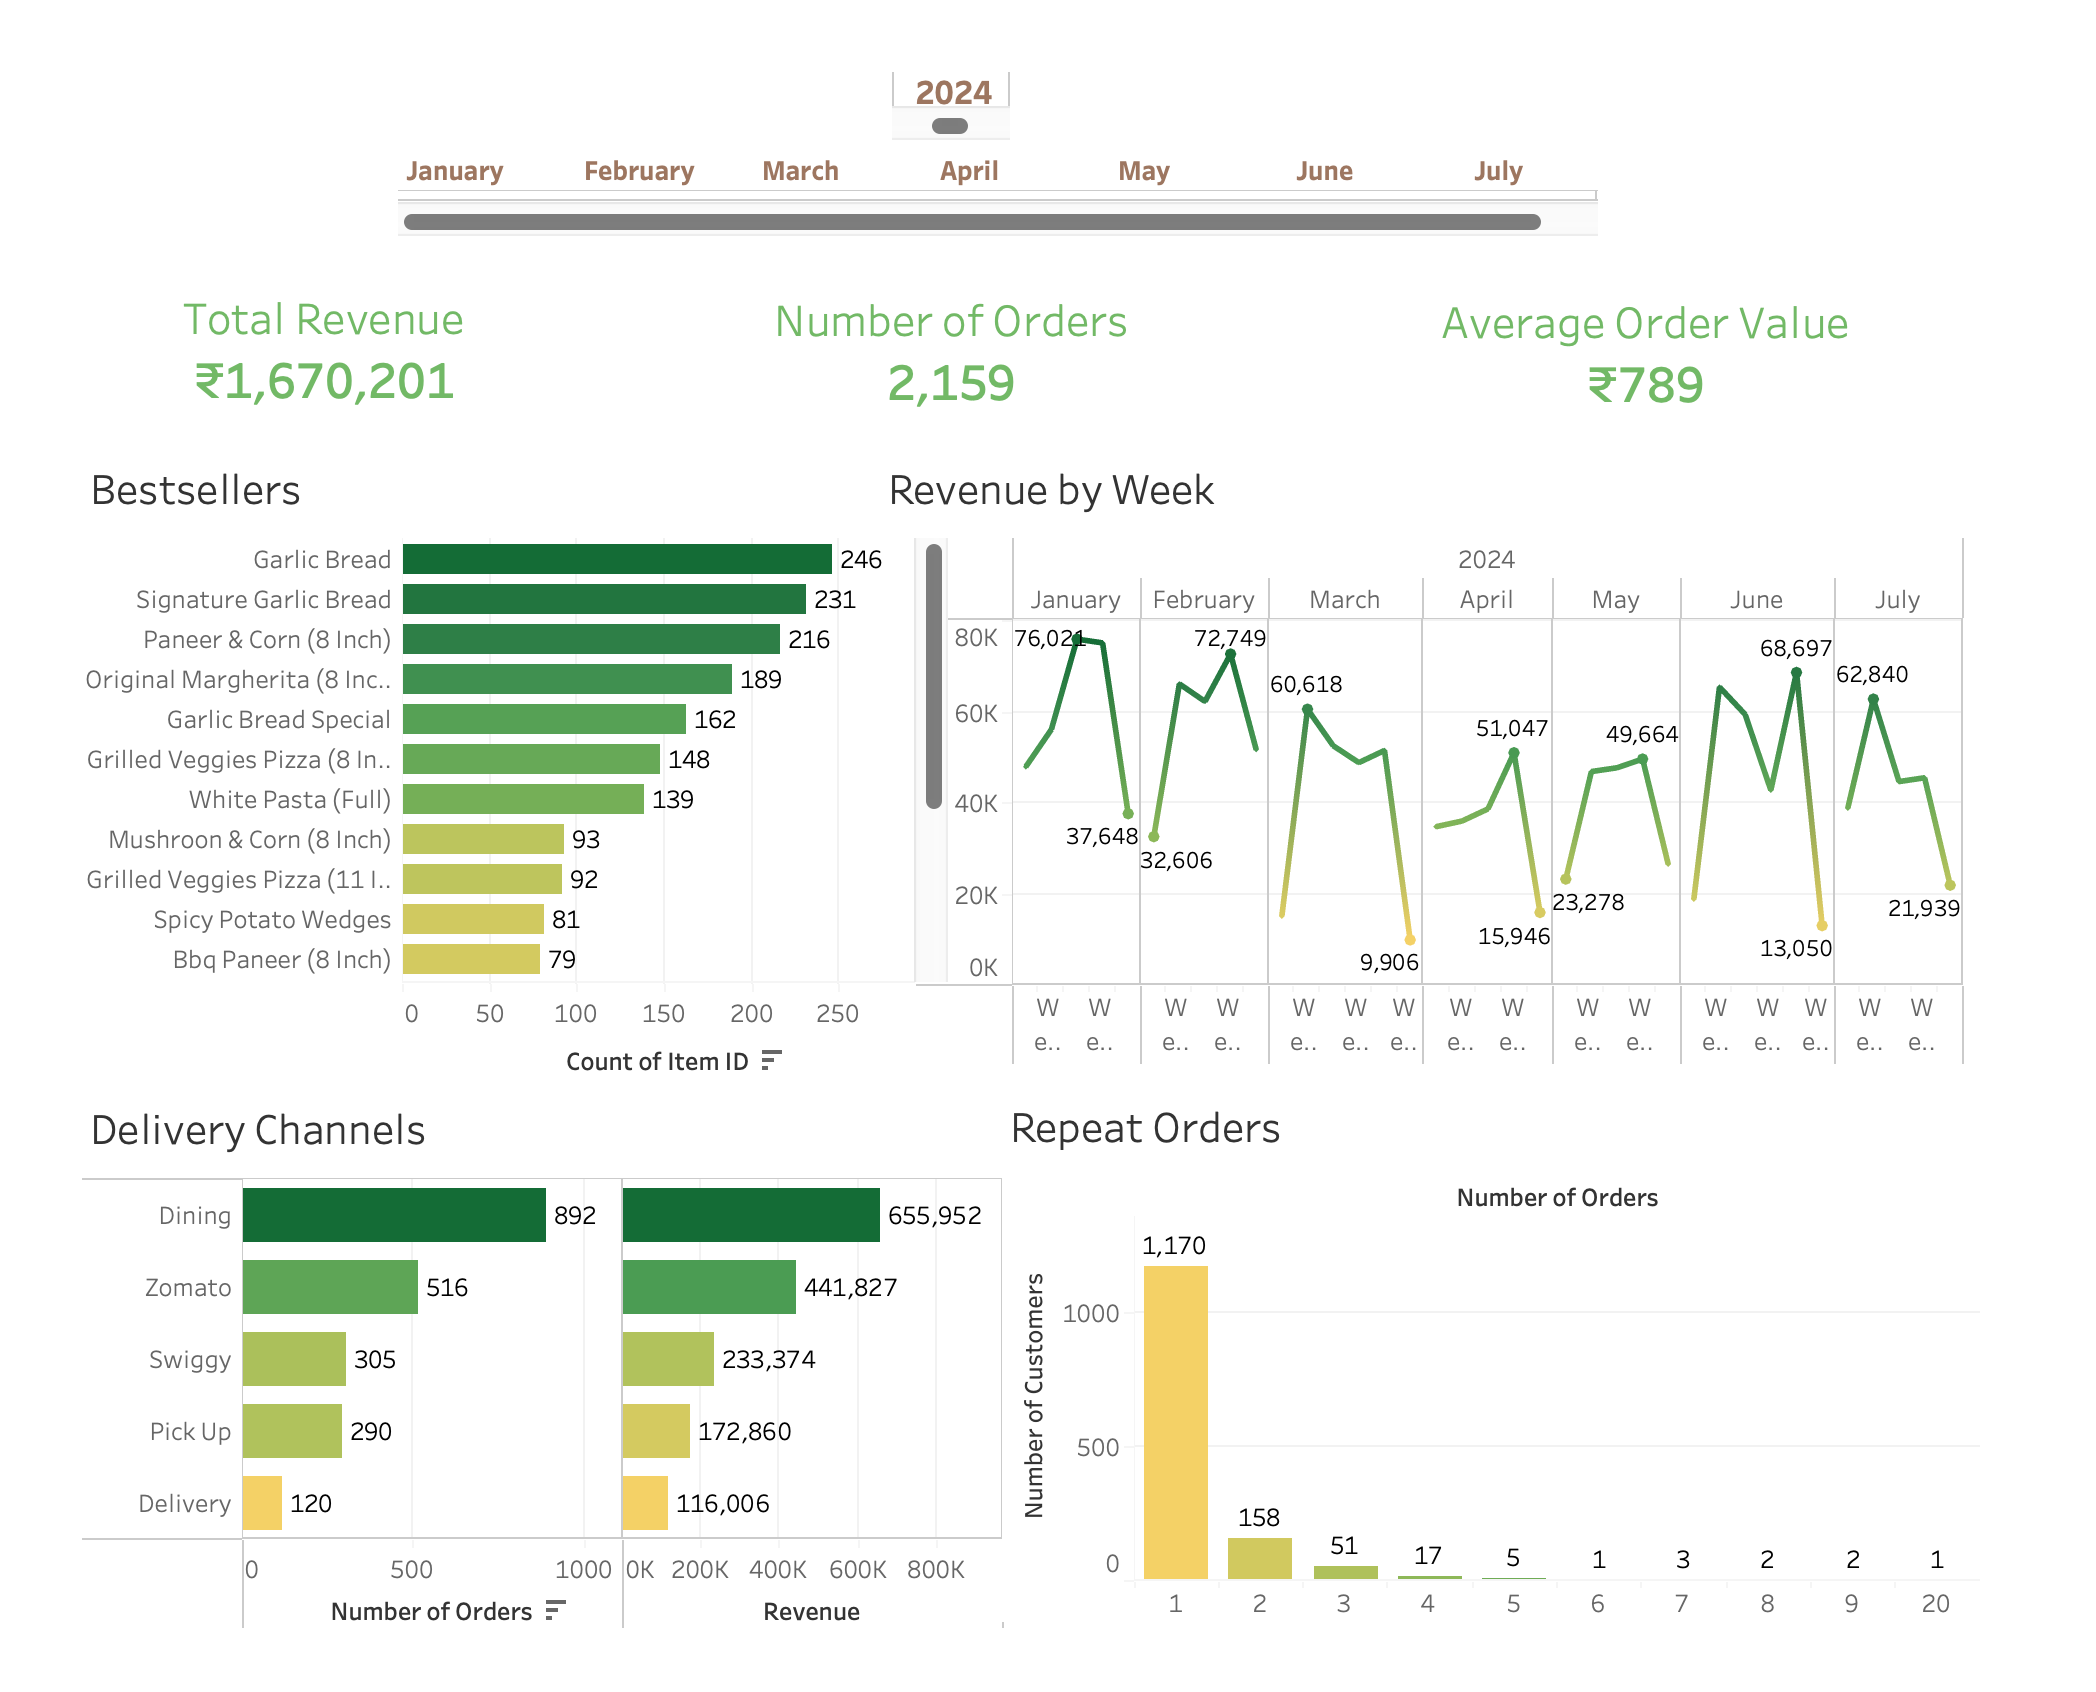

The dashboard page shown, as its layout file describes it:
{"tool":"tableau","page":{"name":"Dashboard 1","canvas":[1000,800],"ordinal":0},"visuals":[{"type":"worksheet","title":"Year","mark":"Automatic","cols":["Date","Date"],"box":[446,11,76,34]},{"type":"worksheet","title":"Month","mark":"Automatic","cols":["Date"],"box":[199,50,600,44]},{"type":"worksheet","title":"Revenue","mark":"Automatic","box":[82,119,168,65]},{"type":"worksheet","title":"Quantity","mark":"Automatic","box":[376,120,210,62]},{"type":"worksheet","title":"Average Order Value","mark":"Automatic","box":[713,121,221,63]},{"type":"worksheet","title":"Bestsellers overall","mark":"Automatic","rows":["ItemName"],"cols":["ItemID"],"box":[41,201,433,286]},{"type":"worksheet","title":"Revenue by Week","mark":"Automatic","rows":["ItemTotal"],"cols":["Date","Date","Date"],"box":[440,201,542,307]},{"type":"worksheet","title":"Repeat Orders","mark":"Automatic","rows":["CustomerID (Sales)"],"cols":["No.Orders (bin)"],"box":[501,520,489,266]},{"type":"worksheet","title":"Delivery Channels","mark":"Automatic","rows":["SubOrderType"],"cols":["InvoiceNo","ItemTotal"],"box":[41,521,482,276]}]}

Visuals, with their boxes in screenshot pixels (x1, y1, x2, y2), scaled from the page's 1000x800 canvas onto the 2096x1692 screenshot:
"Year" worksheet: bbox=(935, 23, 1094, 95)
"Month" worksheet: bbox=(417, 106, 1675, 199)
"Revenue" worksheet: bbox=(172, 252, 524, 389)
"Quantity" worksheet: bbox=(788, 254, 1228, 385)
"Average Order Value" worksheet: bbox=(1494, 256, 1958, 389)
"Bestsellers overall" worksheet: bbox=(86, 425, 994, 1030)
"Revenue by Week" worksheet: bbox=(922, 425, 2058, 1074)
"Repeat Orders" worksheet: bbox=(1050, 1100, 2075, 1662)
"Delivery Channels" worksheet: bbox=(86, 1102, 1096, 1686)
